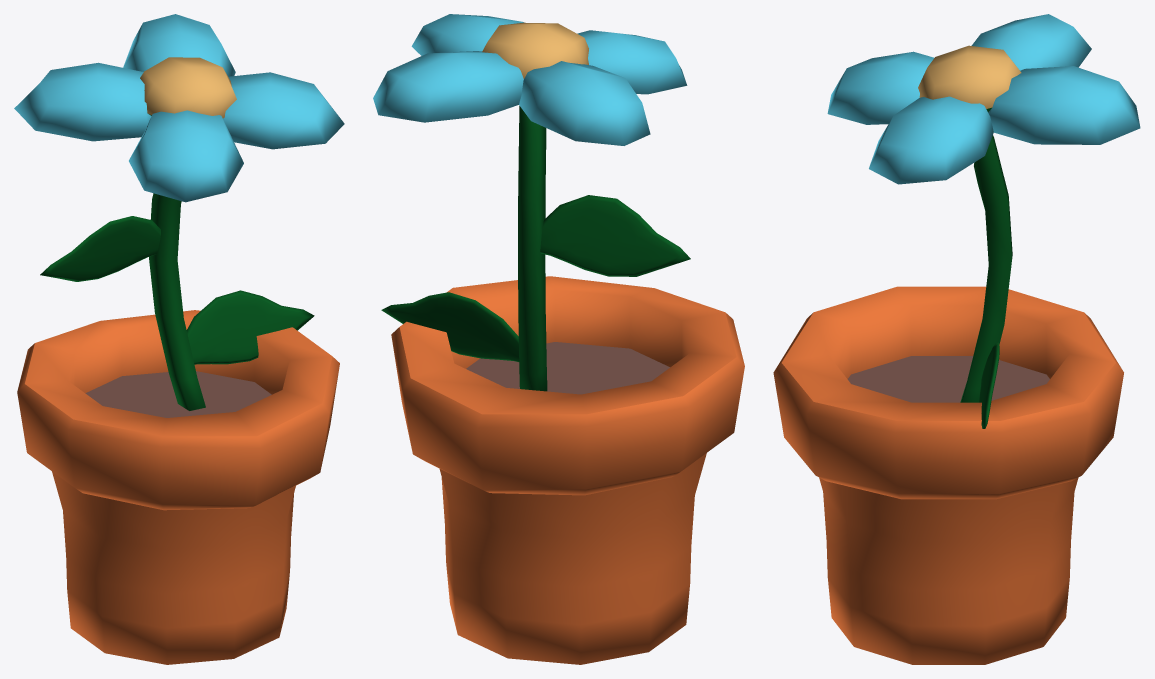
The model's file is props_flower_pot_4.fbx.
3 views of the same model, side by side, from view 1: azimuth 30°, elevation 25°; view 2: azimuth 150°, elevation 25°; view 3: azimuth 270°, elevation 25° (orthographic). The views are drawn at different scales.
Parts seen in each view (by area): view 1: Cylinder.004; view 2: Cylinder.004; view 3: Cylinder.004.
Boxes of the visible parts, x1=… form: Cylinder.004: x1=14, y1=14, x2=344, y2=664; Cylinder.004: x1=373, y1=14, x2=744, y2=664; Cylinder.004: x1=773, y1=14, x2=1140, y2=664.
Bounding box in the file's own units: 41.8 × 74.57 × 43.22.
